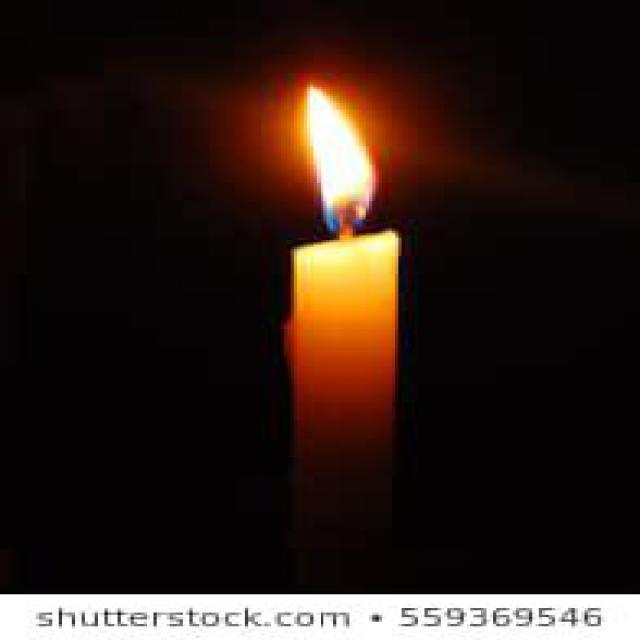Fire: (300, 84, 379, 234)
